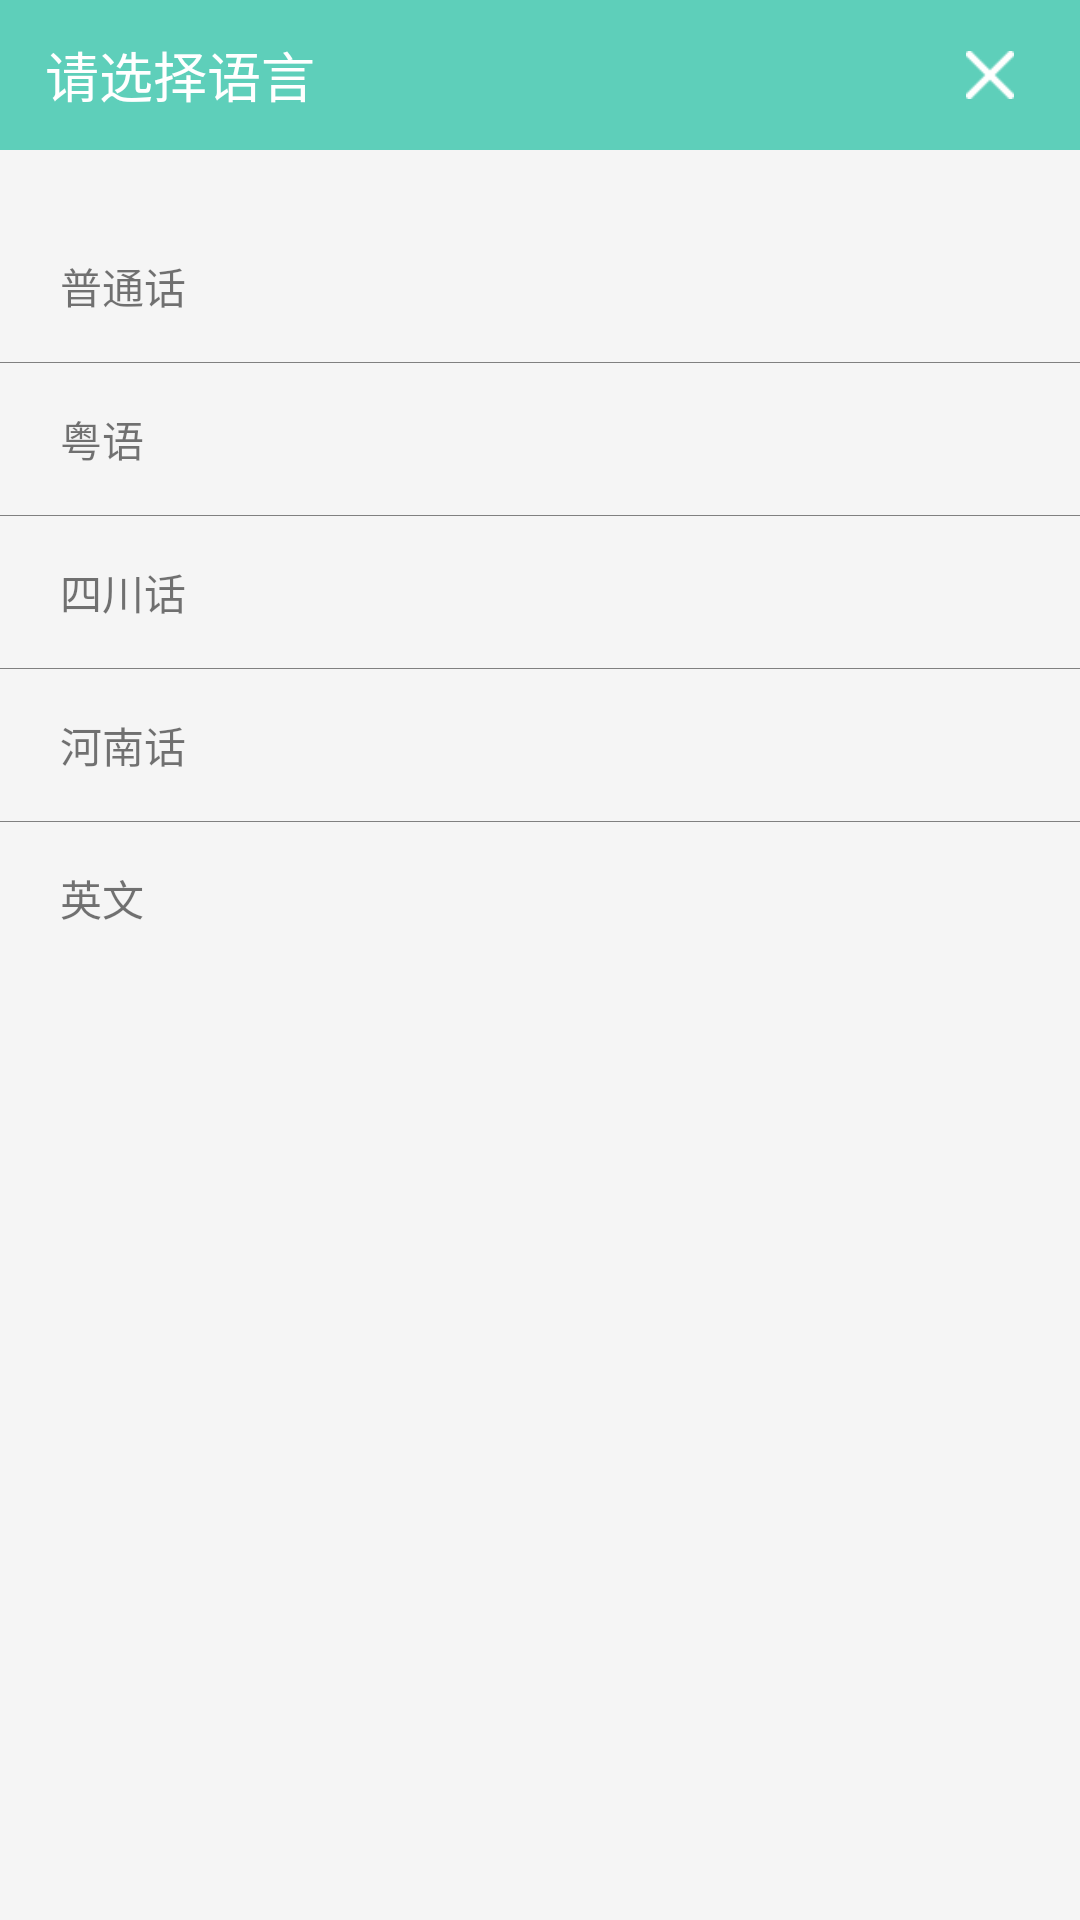

Named icons in this screenshot (1080 × 1920) and their bounding boxes, (x1, y1, x2, y2):
language toolbar cancel: (966, 51, 1014, 99)
